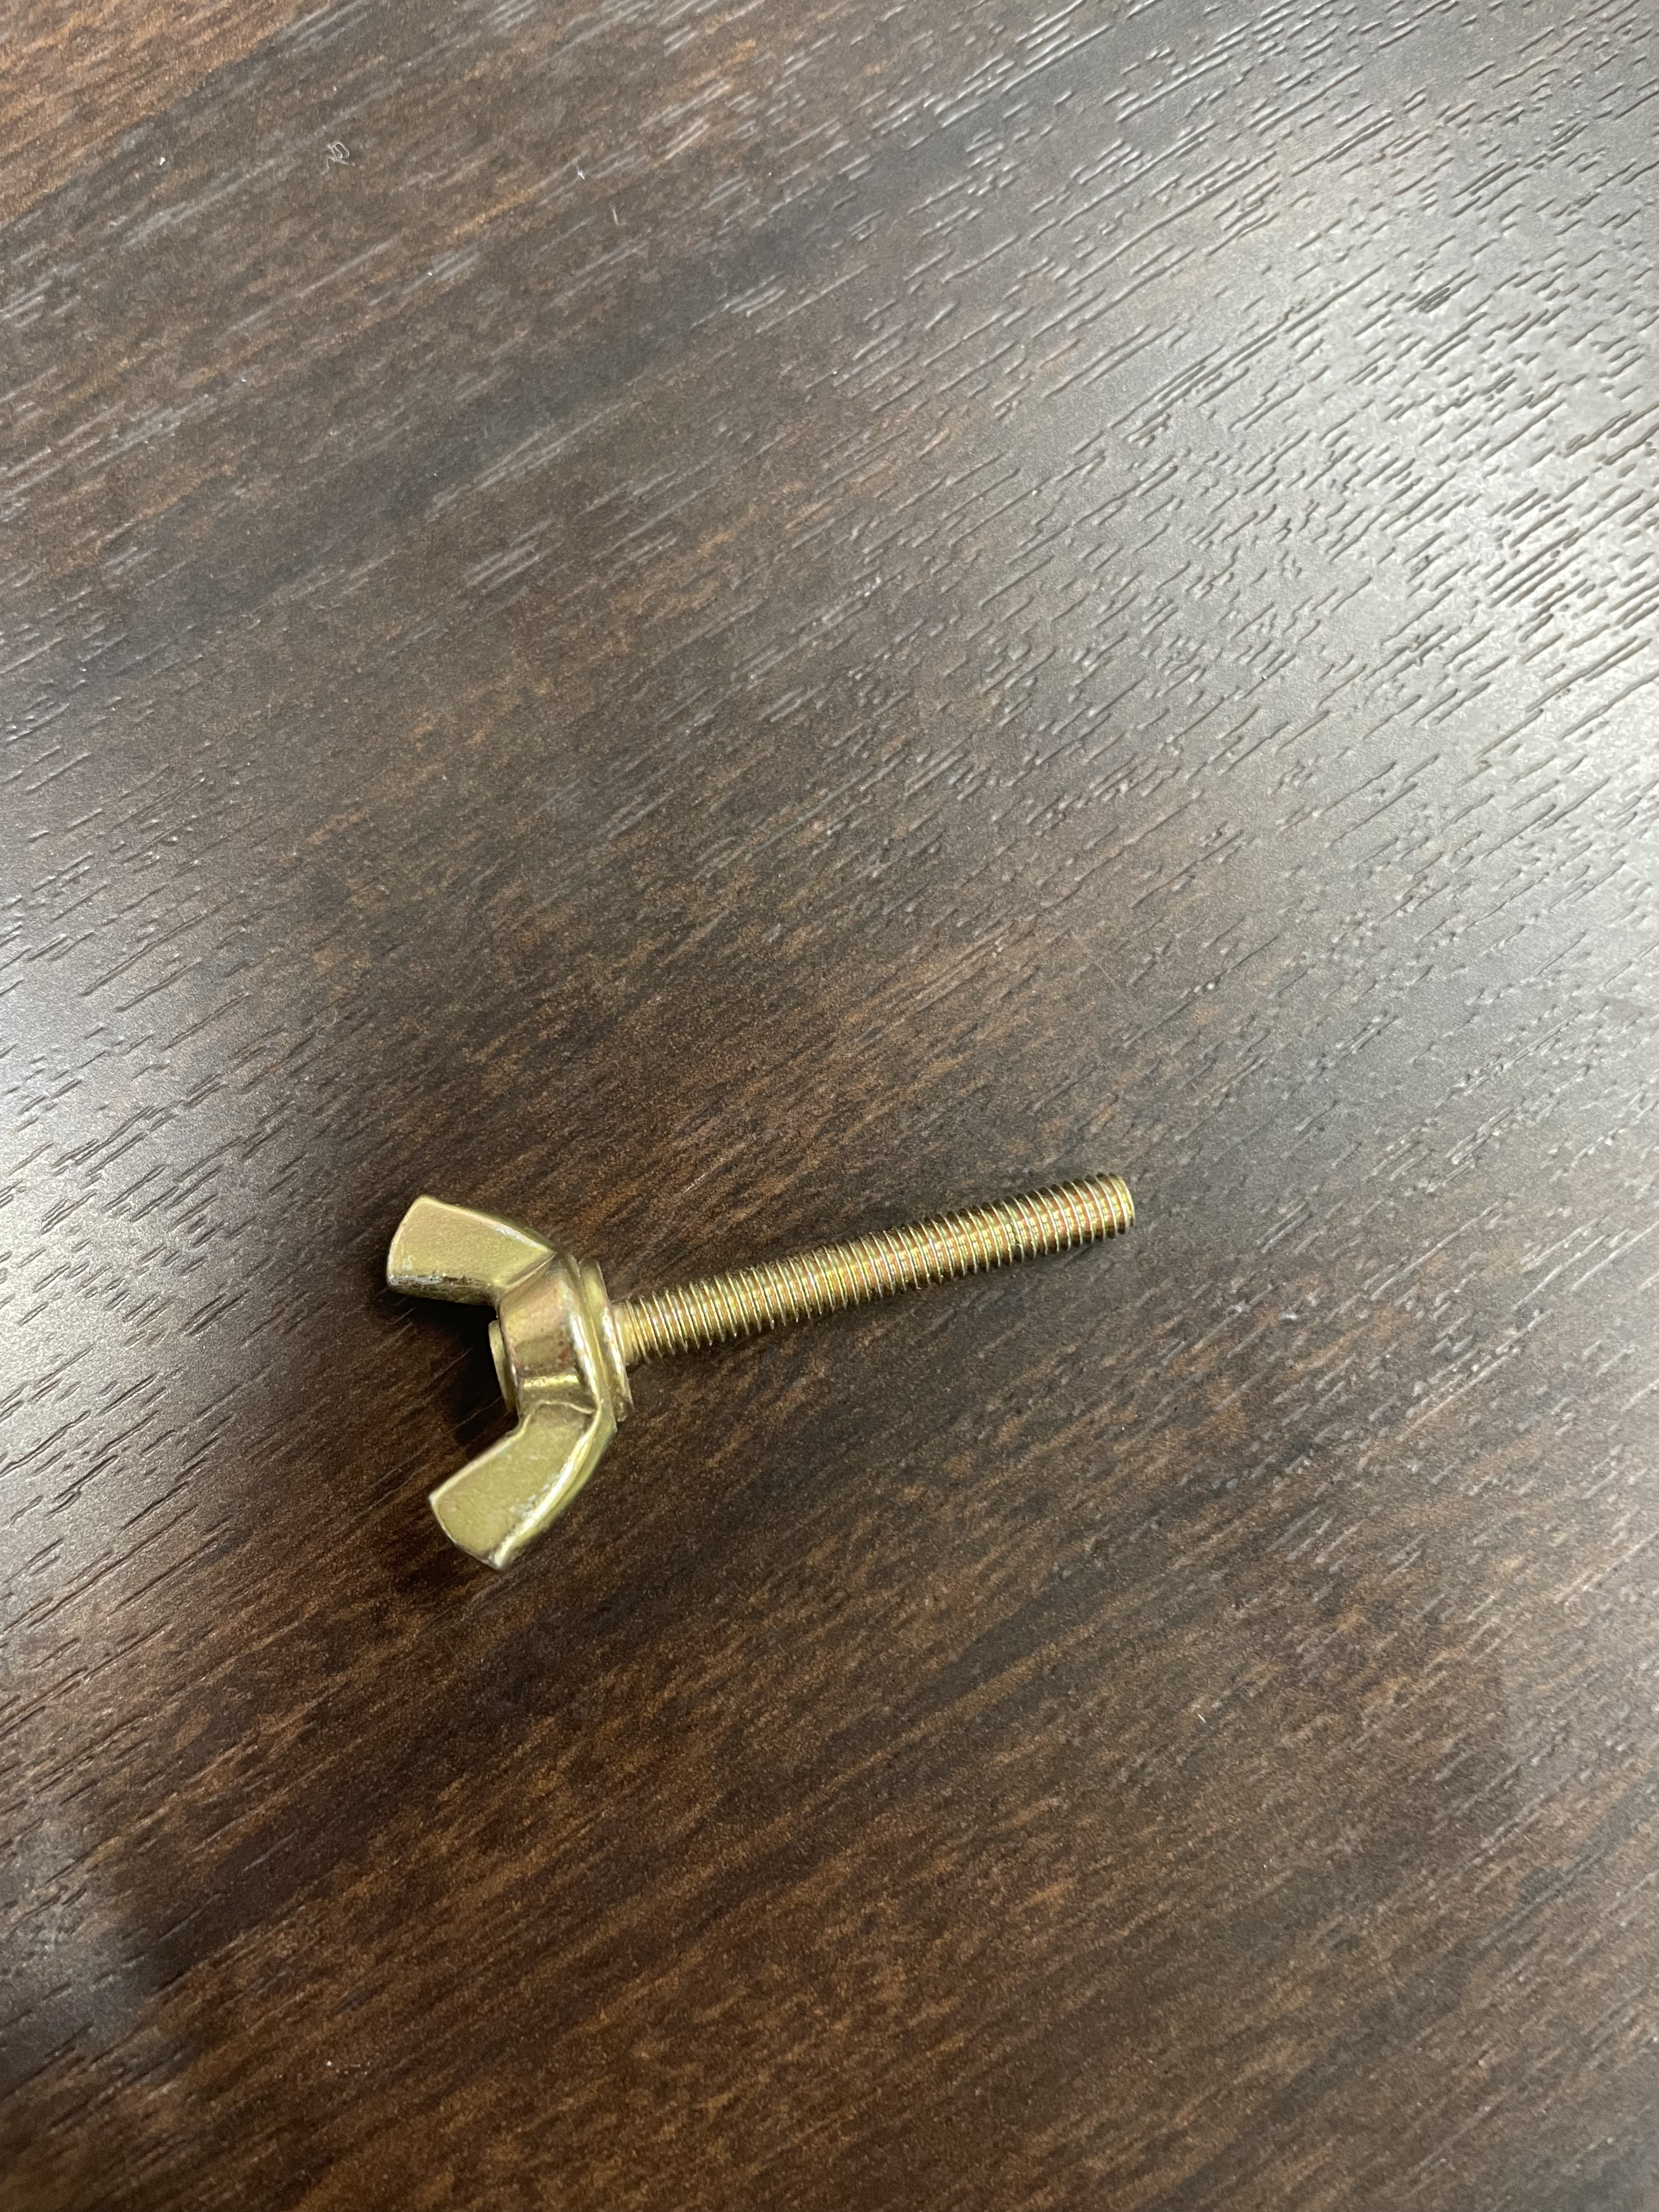screw0: (379, 1165, 1141, 1575)
